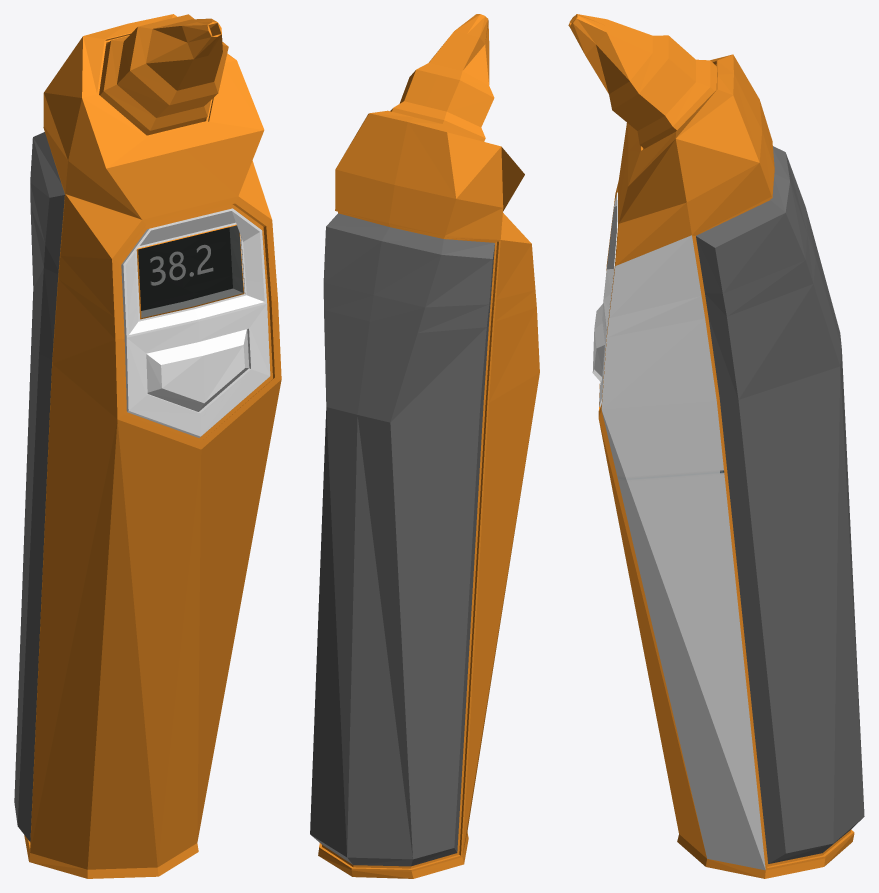
The model's file is C4D耳蜗温度计模型Ear-Thermometer.fbx.
3 views of the same model, side by side, from view 1: azimuth 30°, elevation 25°; view 2: azimuth 150°, elevation 25°; view 3: azimuth 270°, elevation 25° (orthographic). The views are drawn at different scales.
Visible parts, largest first — view 1: Cube; view 2: Cube; view 3: Cube.
Boxes of the visible parts, box(x1,y1,x2,y2) form: Cube: box(14, 14, 281, 878); Cube: box(310, 14, 539, 878); Cube: box(568, 14, 864, 878).
Size of the model in its own units: 21.23 by 102 by 33.16.
6 materials, 1 textured.
